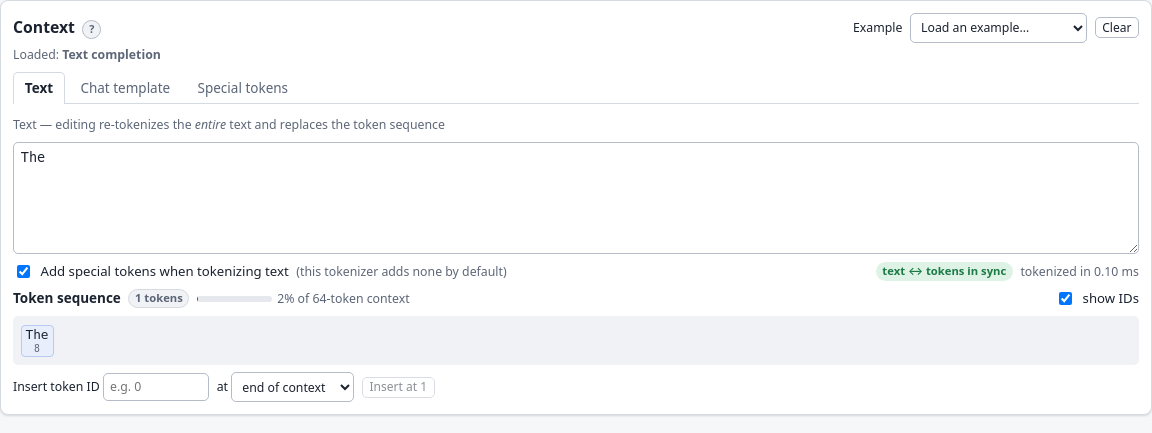
ContextWorkspace › tokenizes typed text into individually distinguishable token chips
The image size is (1152, 433).
Replace the text in the text box with test id "context-text" with "The cat sat on the mat." at (576, 198), box [13, 142, 1139, 254]
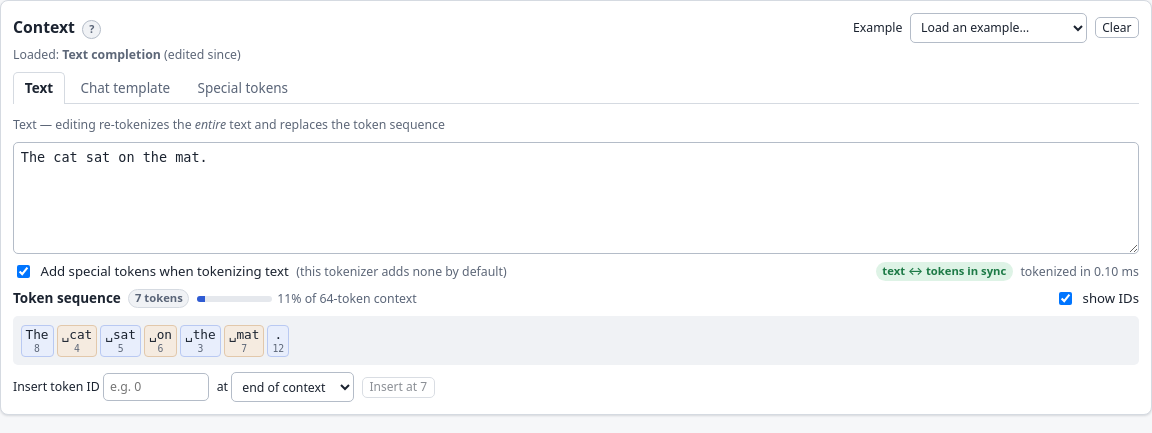
Result: the button "␣cat 4" is shown at [56, 325, 97, 357]
Result: the text with test id "token-count" reads "7 tokens" at [135, 290, 183, 305]
